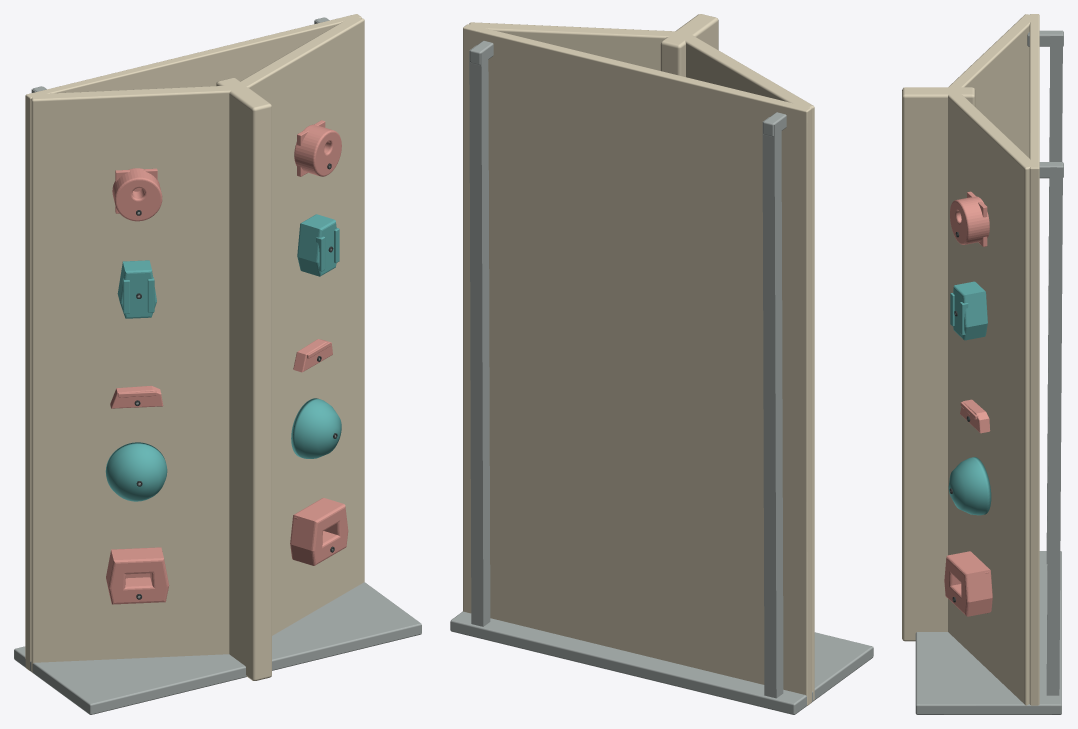
Rendered from indoor-climbing-and-bouldering-gym-indoor-climbing-and-1c139792__31518.glb.
3 views of the same model, side by side, from view 1: azimuth 30°, elevation 25°; view 2: azimuth 150°, elevation 25°; view 3: azimuth 270°, elevation 25° (orthographic). The views are drawn at different scales.
Parts seen in each view (by area): view 1: indoor-climbing-and-bouldering-gym-arete-wall-corner; view 2: indoor-climbing-and-bouldering-gym-arete-wall-corner; view 3: indoor-climbing-and-bouldering-gym-arete-wall-corner.
Boxes of the visible parts, box(x1,y1,x2,y2) form: indoor-climbing-and-bouldering-gym-arete-wall-corner: box(14, 14, 421, 714); indoor-climbing-and-bouldering-gym-arete-wall-corner: box(450, 14, 873, 714); indoor-climbing-and-bouldering-gym-arete-wall-corner: box(902, 14, 1063, 714).
Bounding box in the file's own units: 2 × 3.3 × 0.885.
